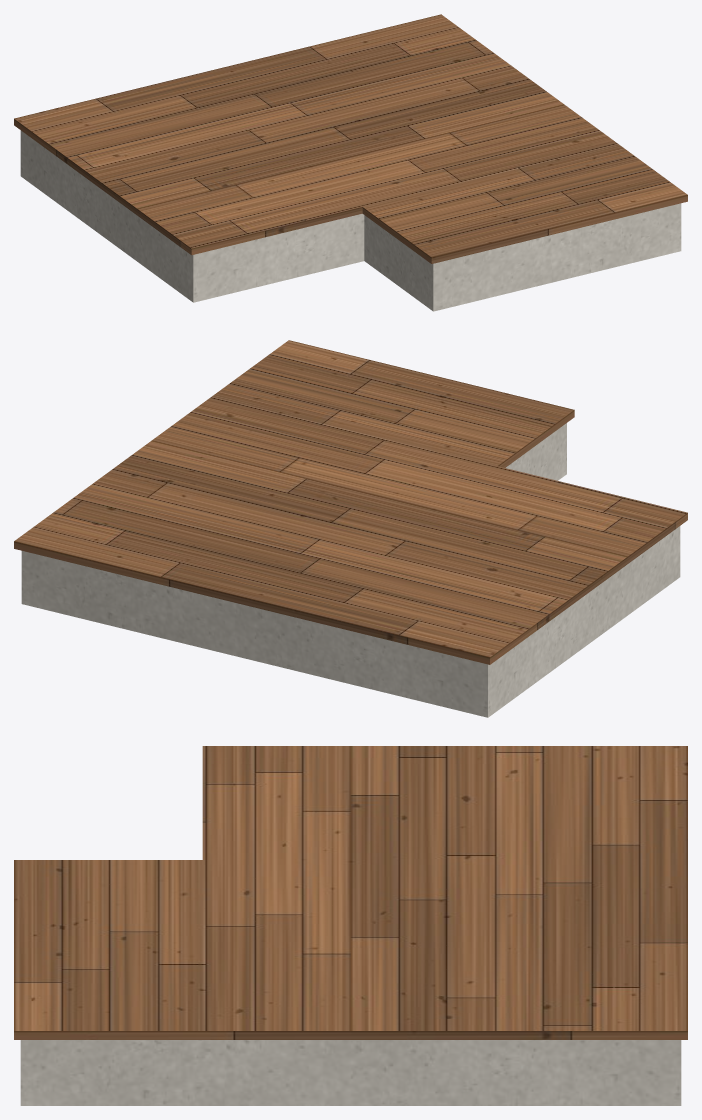
The model's file is floor_floor_u_h2.glb.
The picture shows the model from 3 angles, top to bottom: view 1: azimuth 30°, elevation 25°; view 2: azimuth 150°, elevation 25°; view 3: azimuth 270°, elevation 25°; orthographic projection. The views are drawn at different scales.
Parts seen in each view (by area): view 1: floor_floor_u_h2_floor, floor_floor_u_h2_plaster; view 2: floor_floor_u_h2_floor, floor_floor_u_h2_plaster; view 3: floor_floor_u_h2_floor, floor_floor_u_h2_plaster.
Boxes of the visible parts, x1,y1,x2,y2 form: floor_floor_u_h2_floor: (14,14,687,263); floor_floor_u_h2_plaster: (20,130,681,311); floor_floor_u_h2_floor: (14,340,687,664); floor_floor_u_h2_plaster: (21,423,680,717); floor_floor_u_h2_floor: (14,746,687,1039); floor_floor_u_h2_plaster: (20,1040,681,1105).
Bounding box in the file's own units: 2 × 0.255 × 2.
Materials: 2 (2 with a texture image).
